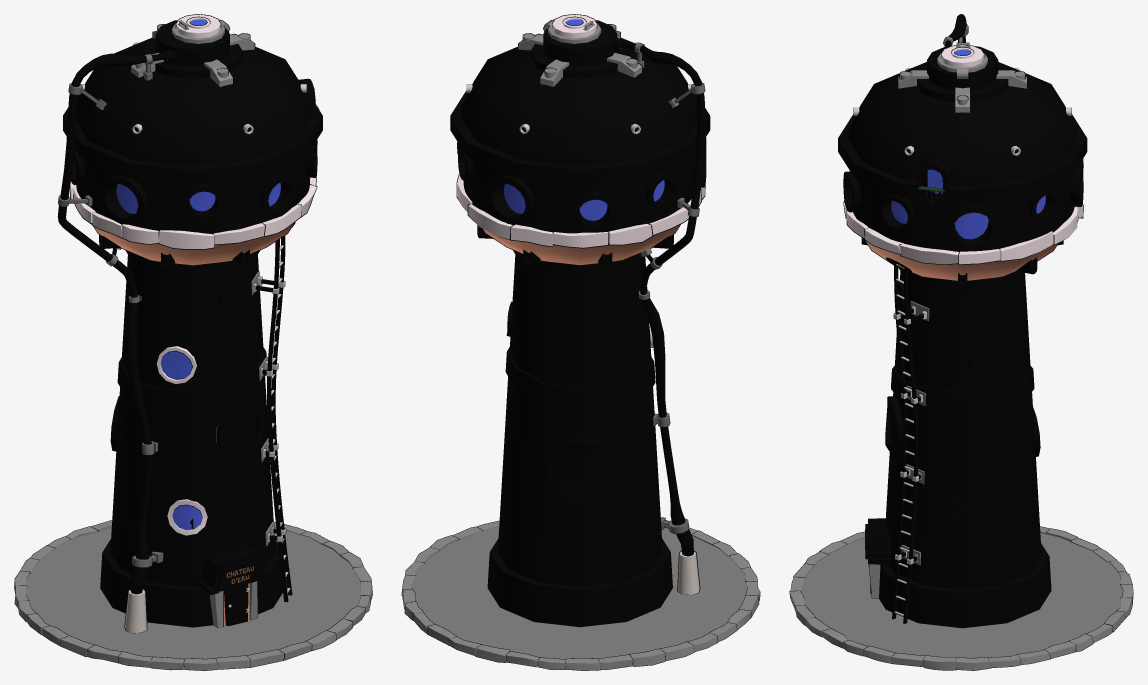
The model's file is 03_Chateau_Eau.fbx.
The picture shows the model from 3 angles, left to right: view 1: azimuth 30°, elevation 25°; view 2: azimuth 150°, elevation 25°; view 3: azimuth 270°, elevation 25°; orthographic projection. The views are drawn at different scales.
Visible parts, largest first — view 1: 03_Line.025, 03_Line, 03_Chateau_eau, 03_Line.028, 03_Chateau_eau.005, 03_Line.007, 03_Line.008, 03_Line.012, 03_Line.021, 03_Line.027, 03_Line.003, 03_Line.009 (+12 smaller); view 2: 03_Line.025, 03_Line, 03_Chateau_eau, 03_Line.008, 03_Line.007, 03_Line.028, 03_Chateau_eau.005, 03_Line.021, 03_Line.012, 03_Line.027, 03_Line.003, 03_Chateau_eau.001 (+4 smaller); view 3: 03_Line.025, 03_Line, 03_Chateau_eau, 03_Line.008, 03_Line.028, 03_Chateau_eau.005, 03_Line.021, 03_Line.007, 03_Line.009, 03_Line.003, 03_Line.027, 03_Chateau_eau.001 (+6 smaller).
Boxes of the visible parts, x1=… form: 03_Line.025: x1=76, y1=157, x2=309, y2=587; 03_Line: x1=76, y1=38, x2=312, y2=166; 03_Chateau_eau: x1=26, y1=527, x2=361, y2=667; 03_Line.028: x1=14, y1=520, x2=372, y2=670; 03_Chateau_eau.005: x1=70, y1=177, x2=316, y2=632; 03_Line.007: x1=71, y1=16, x2=317, y2=536; 03_Line.008: x1=100, y1=250, x2=282, y2=633; 03_Line.012: x1=57, y1=53, x2=167, y2=594; 03_Line.021: x1=63, y1=95, x2=322, y2=185; 03_Line.027: x1=117, y1=347, x2=266, y2=412; 03_Line.003: x1=130, y1=14, x2=255, y2=83; 03_Line.009: x1=267, y1=236, x2=292, y2=602; 03_Line.025: x1=463, y1=158, x2=693, y2=586; 03_Line: x1=460, y1=38, x2=697, y2=166; 03_Chateau_eau: x1=411, y1=527, x2=747, y2=665; 03_Line.008: x1=487, y1=250, x2=700, y2=627; 03_Line.007: x1=457, y1=16, x2=706, y2=498; 03_Line.028: x1=402, y1=521, x2=760, y2=670; 03_Chateau_eau.005: x1=457, y1=175, x2=704, y2=594; 03_Line.021: x1=450, y1=91, x2=710, y2=185; 03_Line.012: x1=620, y1=42, x2=705, y2=556; 03_Line.027: x1=505, y1=347, x2=655, y2=411; 03_Line.003: x1=518, y1=14, x2=642, y2=83; 03_Chateau_eau.001: x1=518, y1=14, x2=641, y2=86; 03_Line.025: x1=853, y1=178, x2=1074, y2=589; 03_Line: x1=847, y1=62, x2=1077, y2=186; 03_Chateau_eau: x1=801, y1=533, x2=1122, y2=667; 03_Line.008: x1=879, y1=268, x2=1051, y2=628; 03_Line.028: x1=789, y1=526, x2=1133, y2=670; 03_Chateau_eau.005: x1=844, y1=202, x2=1082, y2=280; 03_Line.021: x1=838, y1=114, x2=1087, y2=212; 03_Line.007: x1=843, y1=47, x2=1083, y2=456; 03_Line.009: x1=892, y1=263, x2=918, y2=623; 03_Line.003: x1=898, y1=45, x2=1027, y2=101; 03_Line.027: x1=891, y1=365, x2=1034, y2=412; 03_Chateau_eau.001: x1=898, y1=45, x2=1026, y2=112.
Size of the model in its own units: 1122 by 1986 by 1124.
